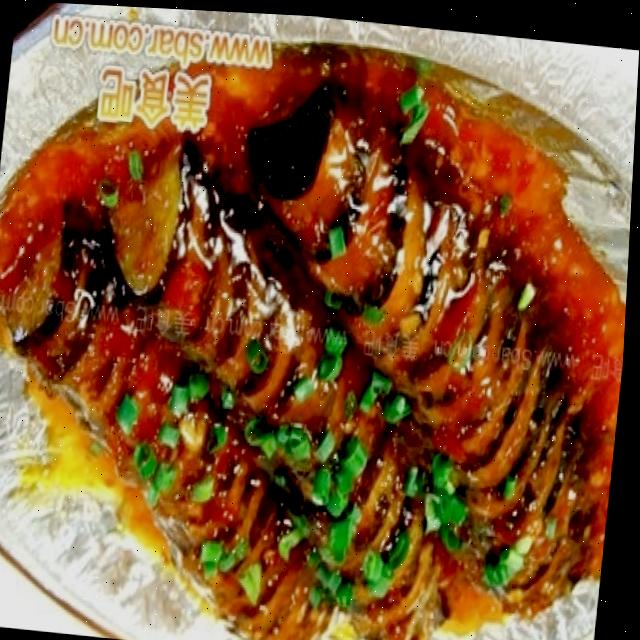鸡蛋料理: (0, 54, 638, 640)
